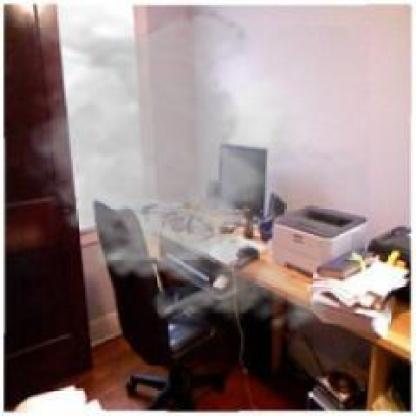Smoke: (17, 5, 370, 340)
